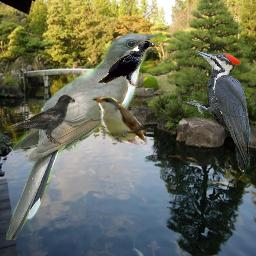Crow: (11, 94, 75, 144), (97, 40, 156, 87)
Cuckoo: (6, 33, 166, 240), (90, 92, 154, 145)
Woodpecker: (187, 49, 256, 175)
